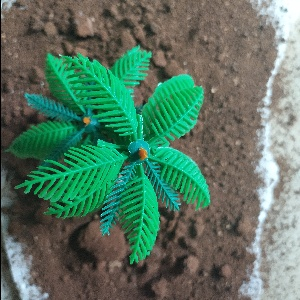plant: (8, 43, 218, 273)
